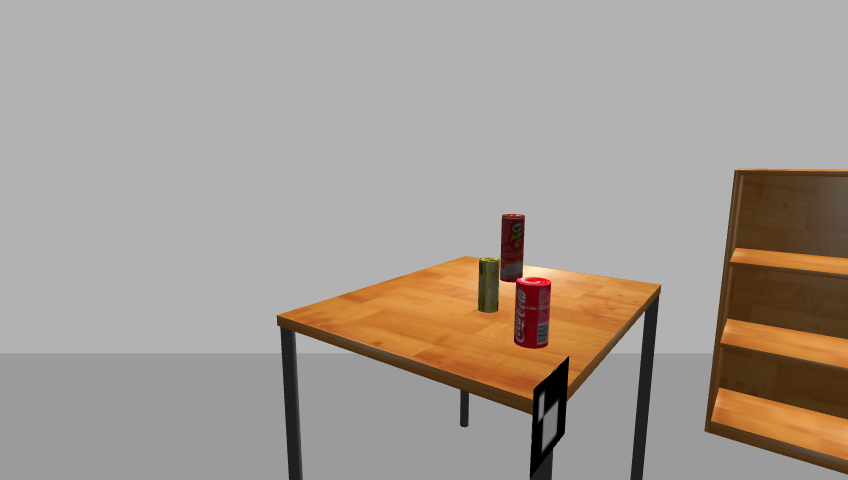aruco marker: (527, 357, 572, 480)
biscuits pack: (477, 257, 500, 314)
bookshelf: (700, 168, 848, 480)
coke can: (512, 277, 552, 349)
dinner table: (271, 256, 671, 479)
pringles can: (499, 213, 527, 285)
